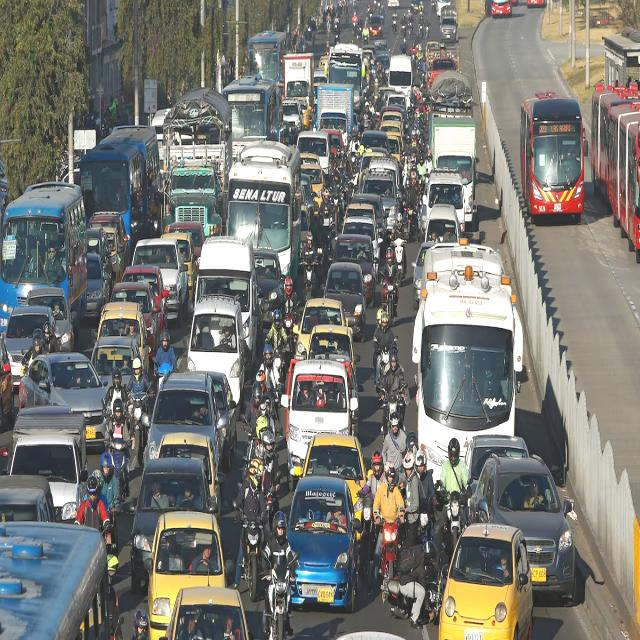BUS: (0, 185, 84, 322), (522, 96, 586, 222), (601, 99, 640, 270)
